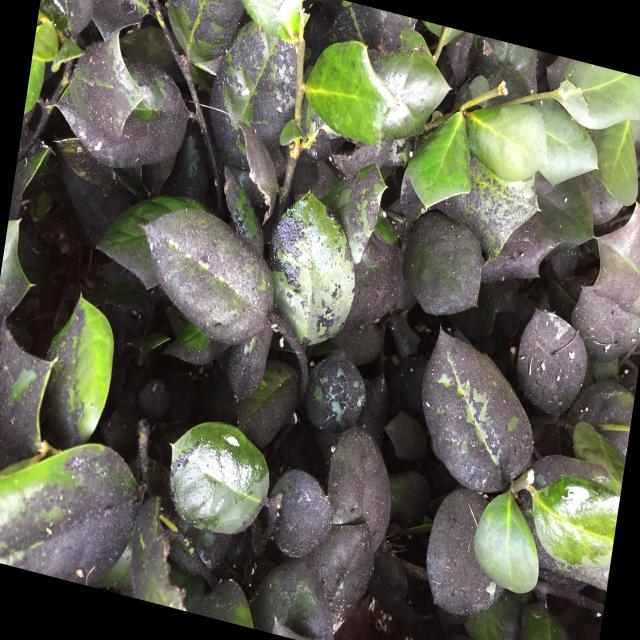Sooty Mold: (2, 2, 637, 637)
